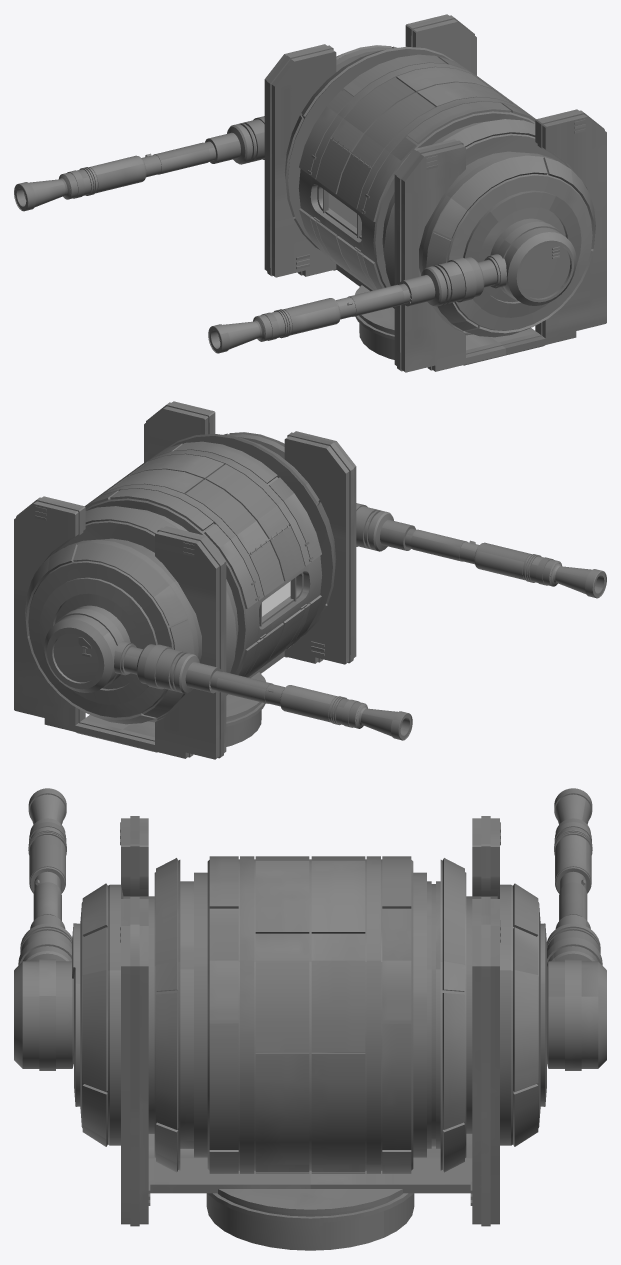
Rendered from turret3.glb.
3 renders of one model, top to bottom at view 1: azimuth 30°, elevation 25°; view 2: azimuth 150°, elevation 25°; view 3: azimuth 270°, elevation 25°, orthographic. The views are drawn at different scales.
Parts seen in each view (by area): view 1: Cylinder.031, Cube.015; view 2: Cylinder.031, Cube.015; view 3: Cylinder.031, Cube.015.
Part boxes in pixels (bbox=[...]): Cylinder.031: bbox=[14, 45, 595, 353]; Cube.015: bbox=[264, 14, 606, 372]; Cylinder.031: bbox=[25, 432, 606, 740]; Cube.015: bbox=[14, 401, 356, 759]; Cylinder.031: bbox=[14, 788, 606, 1173]; Cube.015: bbox=[120, 816, 500, 1250].
Size of the model in its own units: 3.77 by 2.13 by 3.41.
2 materials, 1 textured.
